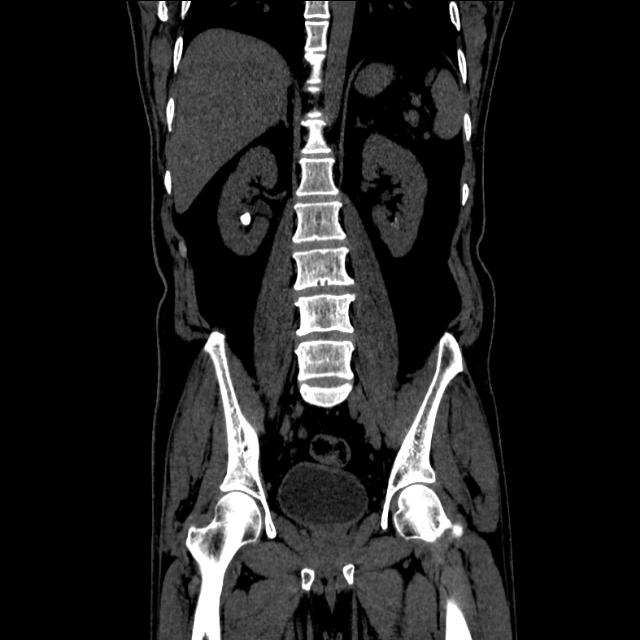kidney: (360, 126, 426, 258), (216, 142, 277, 258)
stone: (235, 206, 252, 230)
